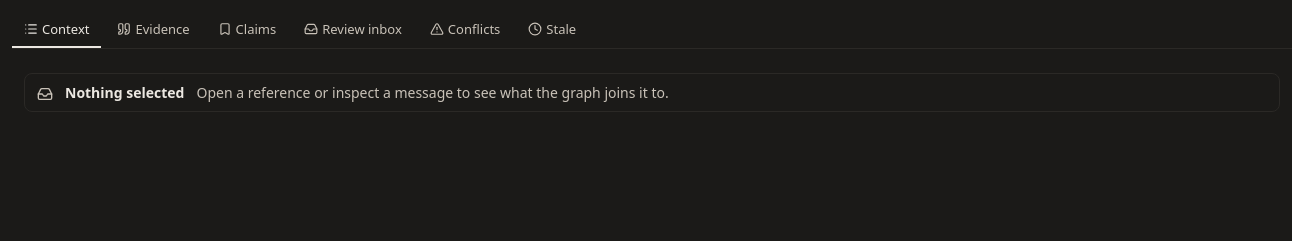
Scenario: the inspector’s conflicts tab › reports the refusal rather than reporting agreement
Click the tab "Conflicts" at point(465, 30), box [418,12,512,48]
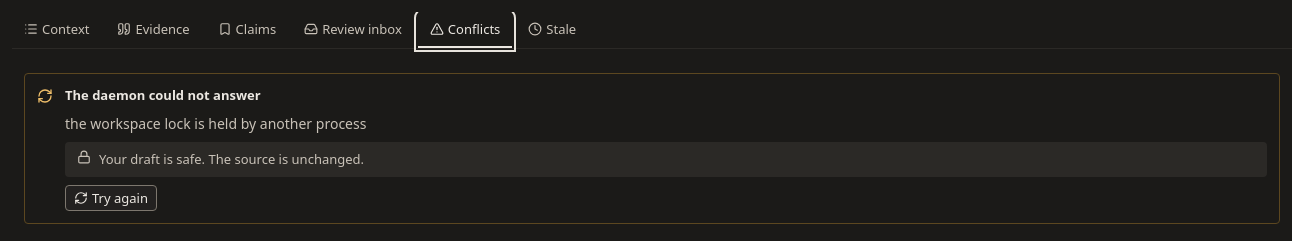
Result: the text "the workspace lock is held by another process" is shown at [65,114,366,133]
